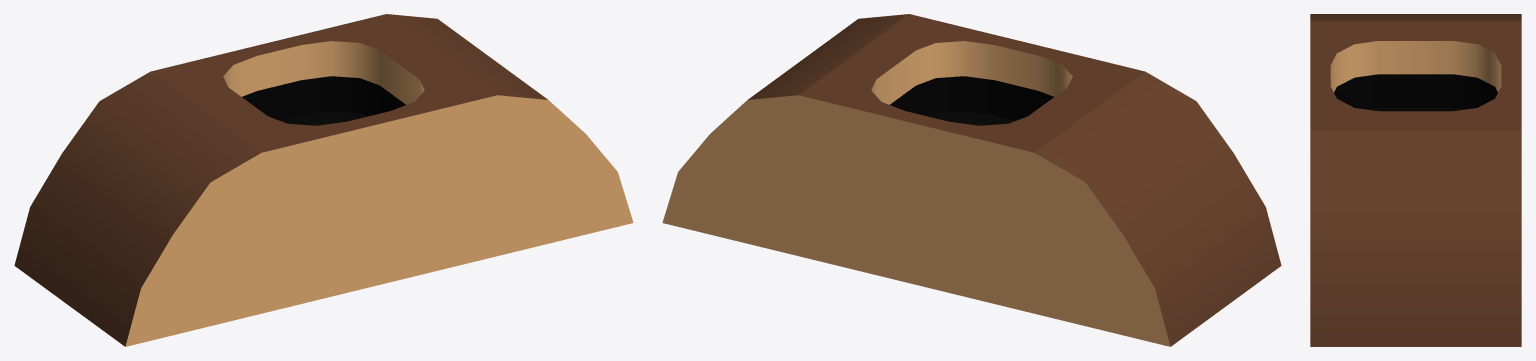
File: ValveBox.fbx
3 renders of one model, left to right at view 1: azimuth 30°, elevation 25°; view 2: azimuth 150°, elevation 25°; view 3: azimuth 270°, elevation 25°, orthographic. The views are drawn at different scales.
Visible parts, largest first — view 1: ValveBox; view 2: ValveBox; view 3: ValveBox.
Boxes of the visible parts, <box> form: ValveBox: <box>14,14,633,346</box>; ValveBox: <box>662,14,1281,346</box>; ValveBox: <box>1310,14,1521,346</box>.
Size of the model in its own units: 51.87 by 15.7 by 19.62.
